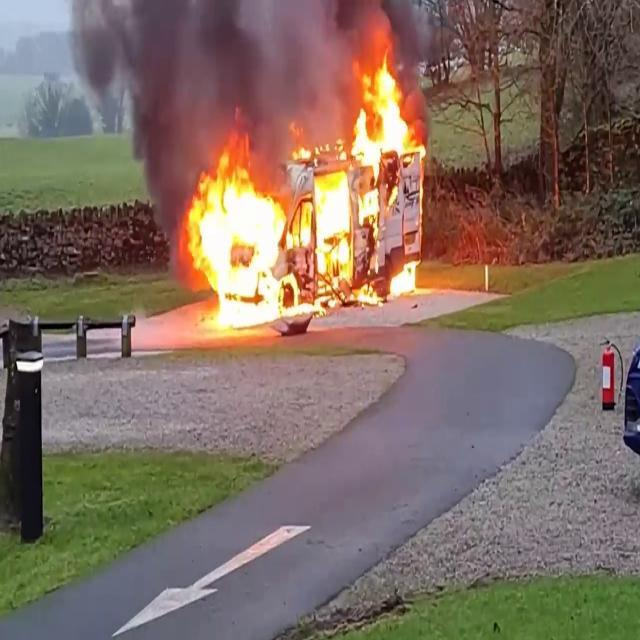Fire: (182, 156, 422, 316), (348, 46, 422, 161)
Smoke: (70, 0, 344, 192)
